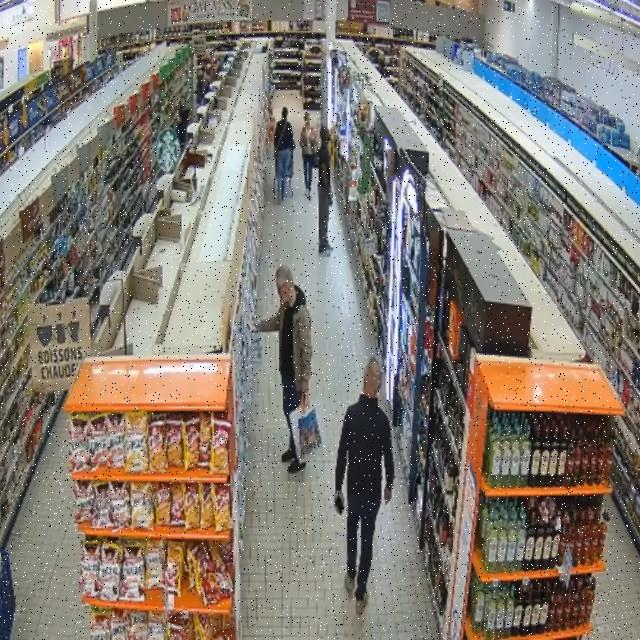article: (246, 320, 258, 333)
bags: (290, 406, 322, 461)
hands: (384, 488, 392, 504), (301, 380, 309, 395)
person: (336, 358, 394, 614), (252, 266, 312, 473), (275, 107, 295, 201), (318, 127, 332, 254), (300, 112, 317, 199)
